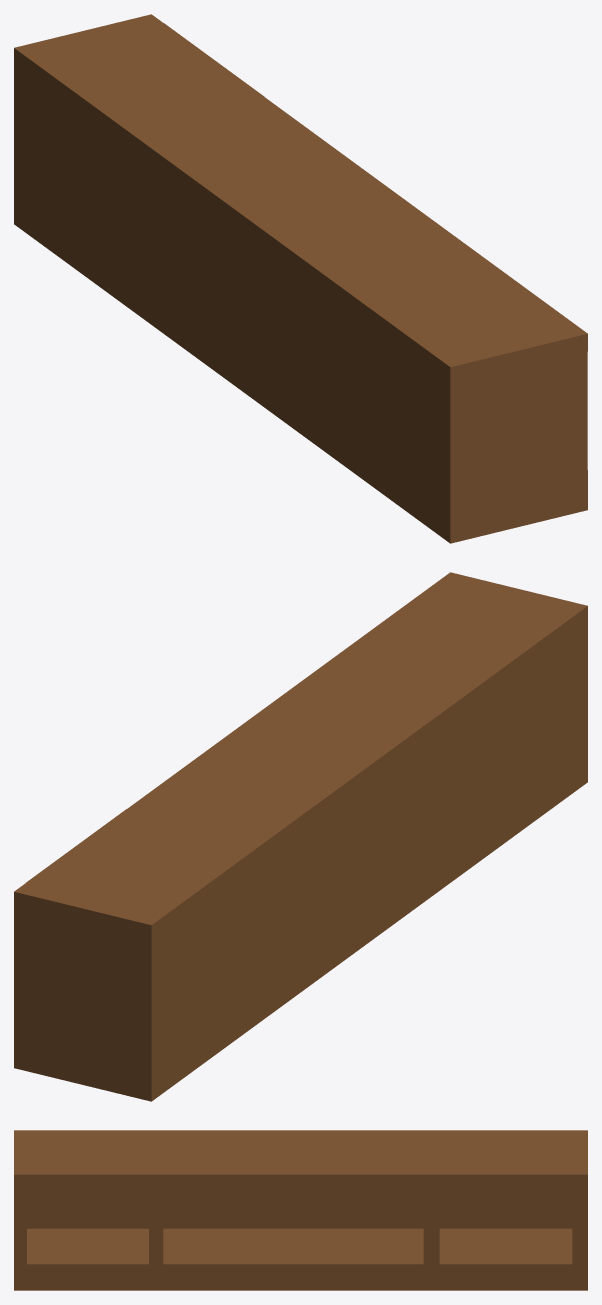
File: meubletv 1.fbx
The picture shows the model from 3 angles, top to bottom: view 1: azimuth 30°, elevation 25°; view 2: azimuth 150°, elevation 25°; view 3: azimuth 270°, elevation 25°; orthographic projection. The views are drawn at different scales.
Parts seen in each view (by area): view 1: Cube; view 2: Cube; view 3: Cube.
Part boxes in pixels (bbox=[...]): Cube: bbox=[14, 14, 587, 543]; Cube: bbox=[14, 572, 587, 1101]; Cube: bbox=[14, 1130, 587, 1290].
Size of the model in its own units: 4.17 by 5.1 by 22.85.
